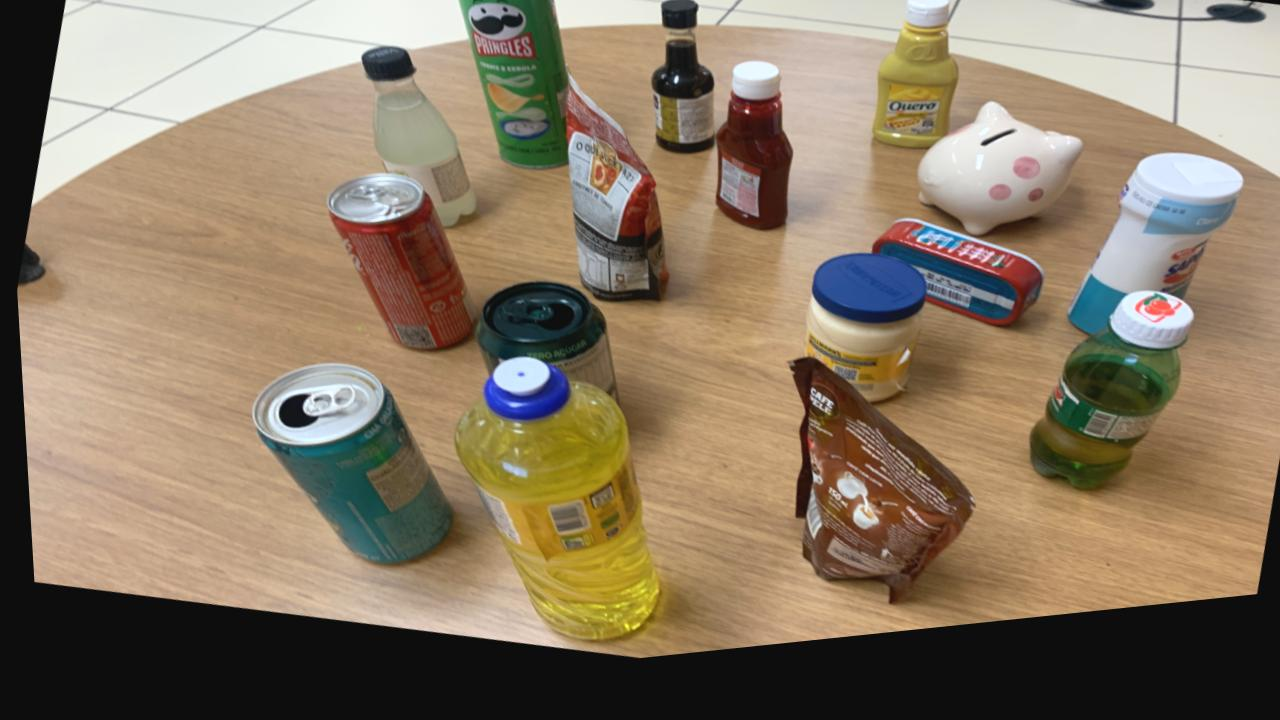Cleaner-Cleanup_Items: (1061, 177, 1239, 356)
Coffee-Pantry_Items: (784, 373, 966, 620)
Coke-Drinks: (323, 181, 472, 358)
Detergent-Cleanup_Items: (448, 367, 650, 652)
English_Sauce-Pantry_Items: (649, 12, 712, 168)
Guarana-Drinks: (1022, 314, 1187, 511)
Guarana_Can-Drinks: (470, 292, 611, 412)
Ketchup-Pantry_Items: (712, 77, 789, 246)
Mayonnaise-Pantry_Items: (798, 270, 921, 420)
Mustard-Pantry_Items: (868, 13, 956, 169)
Pig_Safe-Miscellaneous: (913, 123, 1079, 257)
Pringles-Snacks: (455, 0, 567, 180)
Soda-Drinks: (359, 54, 473, 236)
Tea-Drinks: (246, 369, 445, 571)
Tomato_Sauce-Pantry_Items: (563, 88, 663, 314)
Tuna_Can-Pantry_Items: (868, 237, 1038, 347)
